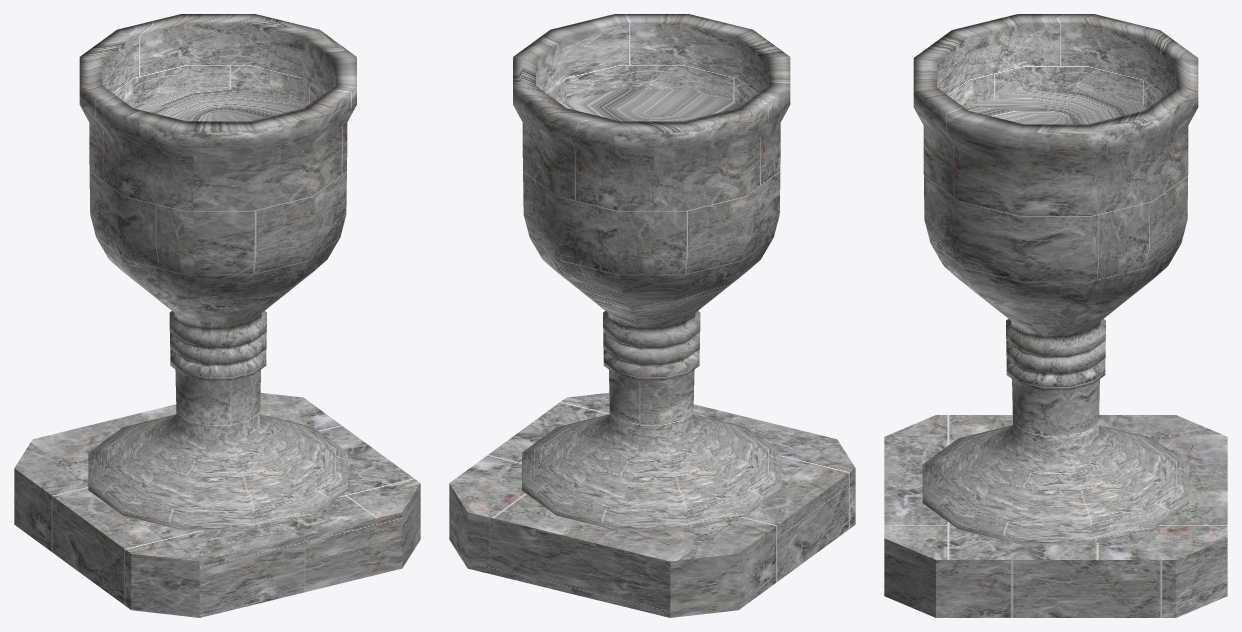
File: PotDeFleur.fbx
3 renders of one model, left to right at view 1: azimuth 30°, elevation 25°; view 2: azimuth 150°, elevation 25°; view 3: azimuth 270°, elevation 25°, orthographic. The views are drawn at different scales.
Visible parts, largest first — view 1: pCube39; view 2: pCube39; view 3: pCube39.
Part boxes in pixels (bbox=[...]): pCube39: bbox=[14, 14, 420, 617]; pCube39: bbox=[449, 14, 855, 617]; pCube39: bbox=[884, 14, 1227, 617].
Size of the model in its own units: 1 by 1.52 by 1.
